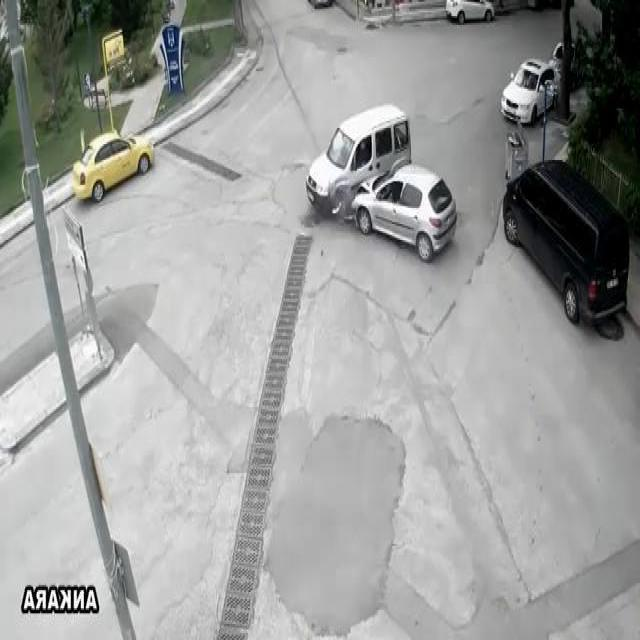multiple_accident: (314, 89, 466, 271)
